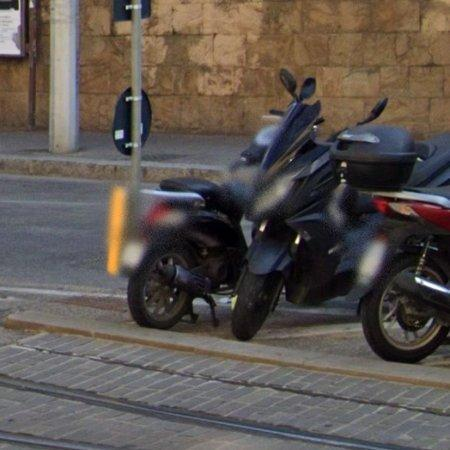motorcycles: (232, 71, 377, 341), (128, 178, 251, 329), (363, 192, 450, 363), (410, 134, 450, 190)
